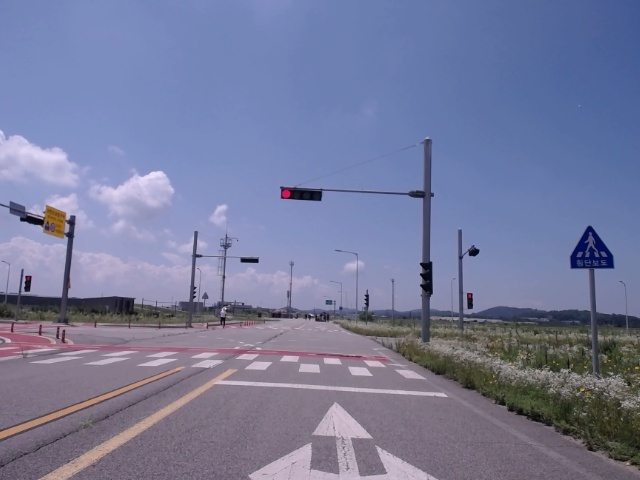red_4: (280, 189, 322, 201)
